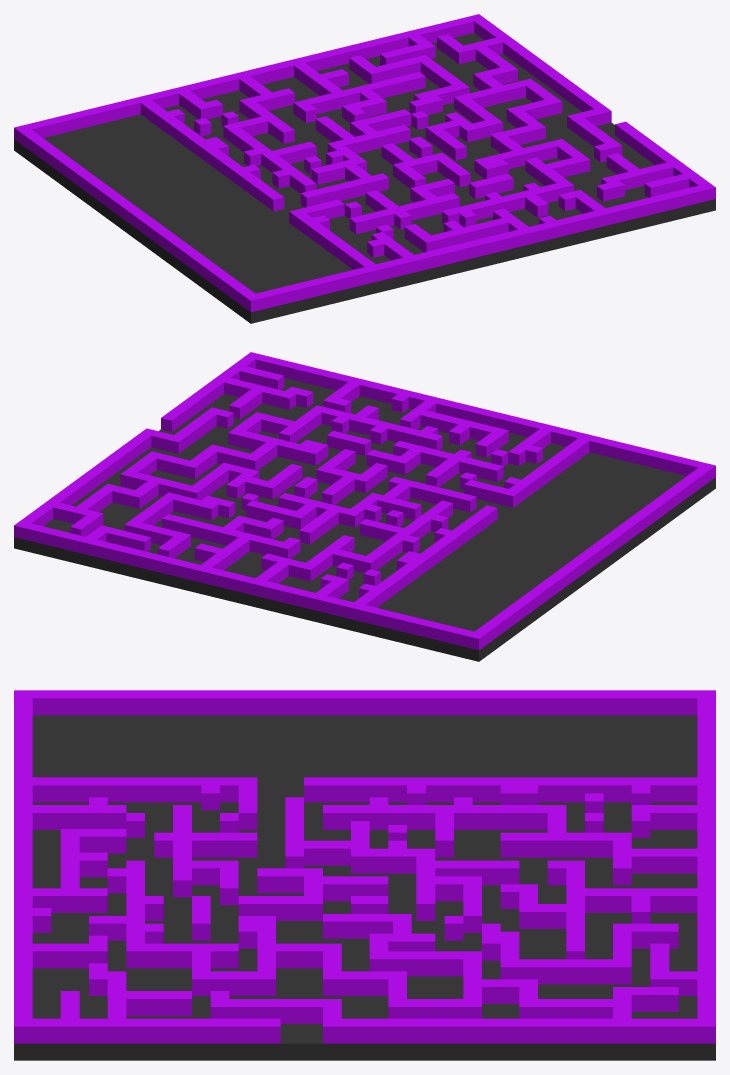
The model's file is labirenrt v1.fbx.
3 views of the same model, one above another, from view 1: azimuth 30°, elevation 25°; view 2: azimuth 150°, elevation 25°; view 3: azimuth 270°, elevation 25° (orthographic). The views are drawn at different scales.
Visible parts, largest first — view 1: Body3, Body11, Body6, Body5, Body2, Body9, Body1; view 2: Body3, Body11, Body6, Body5, Body2, Body9, Body1; view 3: Body3, Body11, Body6, Body2, Body5, Body9, Body1, Body4.
Boxes of the visible parts, x1,y1,x2,y2 form: Body3: [14, 14, 715, 312]; Body11: [14, 33, 715, 323]; Body6: [300, 109, 428, 207]; Body5: [349, 179, 459, 234]; Body2: [349, 55, 469, 114]; Body9: [381, 143, 470, 188]; Body1: [469, 173, 513, 198]; Body3: [14, 352, 715, 650]; Body11: [14, 378, 715, 661]; Body6: [241, 476, 476, 544]; Body5: [366, 441, 503, 487]; Body2: [124, 492, 235, 558]; Body9: [316, 449, 387, 504]; Body1: [327, 430, 371, 455]; Body3: [14, 690, 715, 1043]; Body11: [14, 715, 715, 1060]; Body6: [285, 797, 519, 940]; Body2: [482, 923, 678, 984]; Body5: [154, 805, 257, 905]; Body9: [238, 868, 388, 920]; Body1: [192, 896, 210, 940]; Body4: [351, 896, 388, 913].
Size of the model in its own units: 8500 by 400 by 7500.
